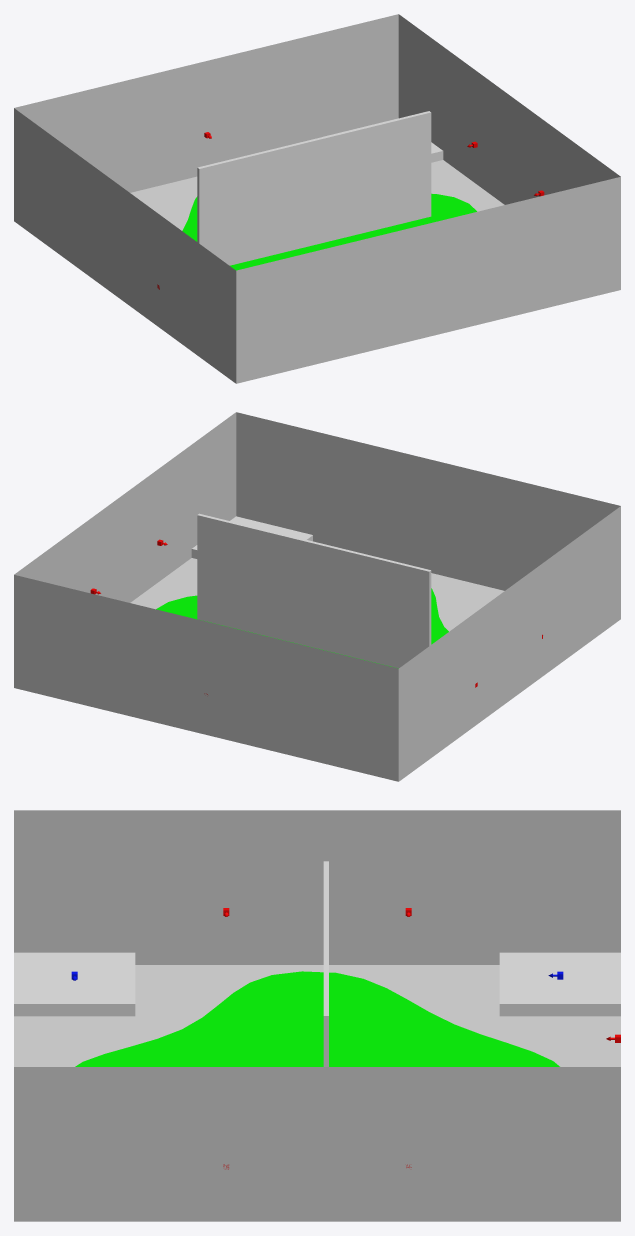
Rendered from DemoMuseum01.glb.
3 views of the same model, one above another, from view 1: azimuth 30°, elevation 25°; view 2: azimuth 150°, elevation 25°; view 3: azimuth 270°, elevation 25° (orthographic). The views are drawn at different scales.
Parts seen in each view (by area): view 1: Walls, RaisedLevel, Floor, Path; view 2: Walls, RaisedLevel, Floor, Path; view 3: Walls, Path, Floor, RaisedLevel.
Boxes of the visible parts, bbox=[...] form: Walls: bbox=[14, 14, 620, 383]; RaisedLevel: bbox=[197, 111, 443, 265]; Floor: bbox=[130, 160, 504, 230]; Path: bbox=[182, 193, 476, 270]; Walls: bbox=[14, 412, 620, 781]; RaisedLevel: bbox=[191, 513, 431, 668]; Floor: bbox=[130, 558, 504, 631]; Path: bbox=[156, 588, 448, 668]; Walls: bbox=[14, 810, 620, 1221]; Path: bbox=[75, 971, 559, 1066]; Floor: bbox=[14, 965, 620, 1066]; RaisedLevel: bbox=[14, 861, 620, 1066].
Size of the model in its own units: 20 by 5.63 by 20.
